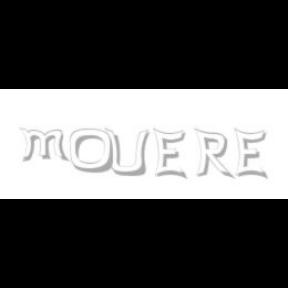E: (153, 128, 186, 180), (234, 128, 266, 180)
O: (70, 128, 114, 174)
R: (194, 128, 232, 180)
U: (104, 128, 148, 178)
m: (18, 128, 70, 162)
